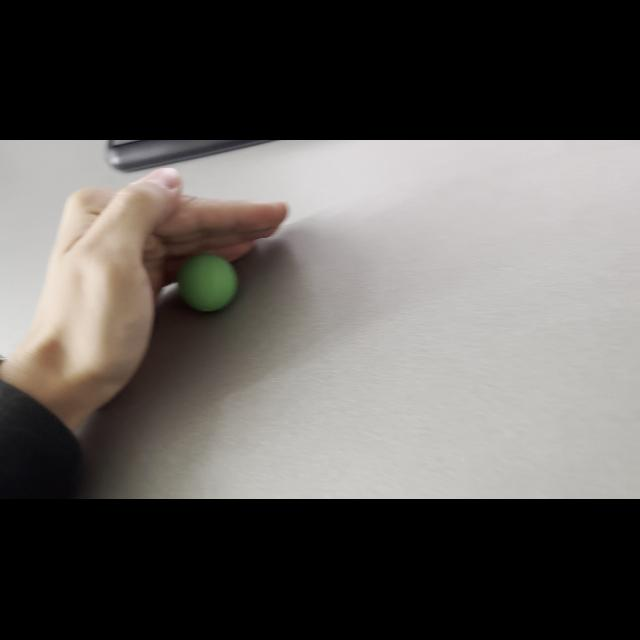objects: (173, 248, 240, 320)
